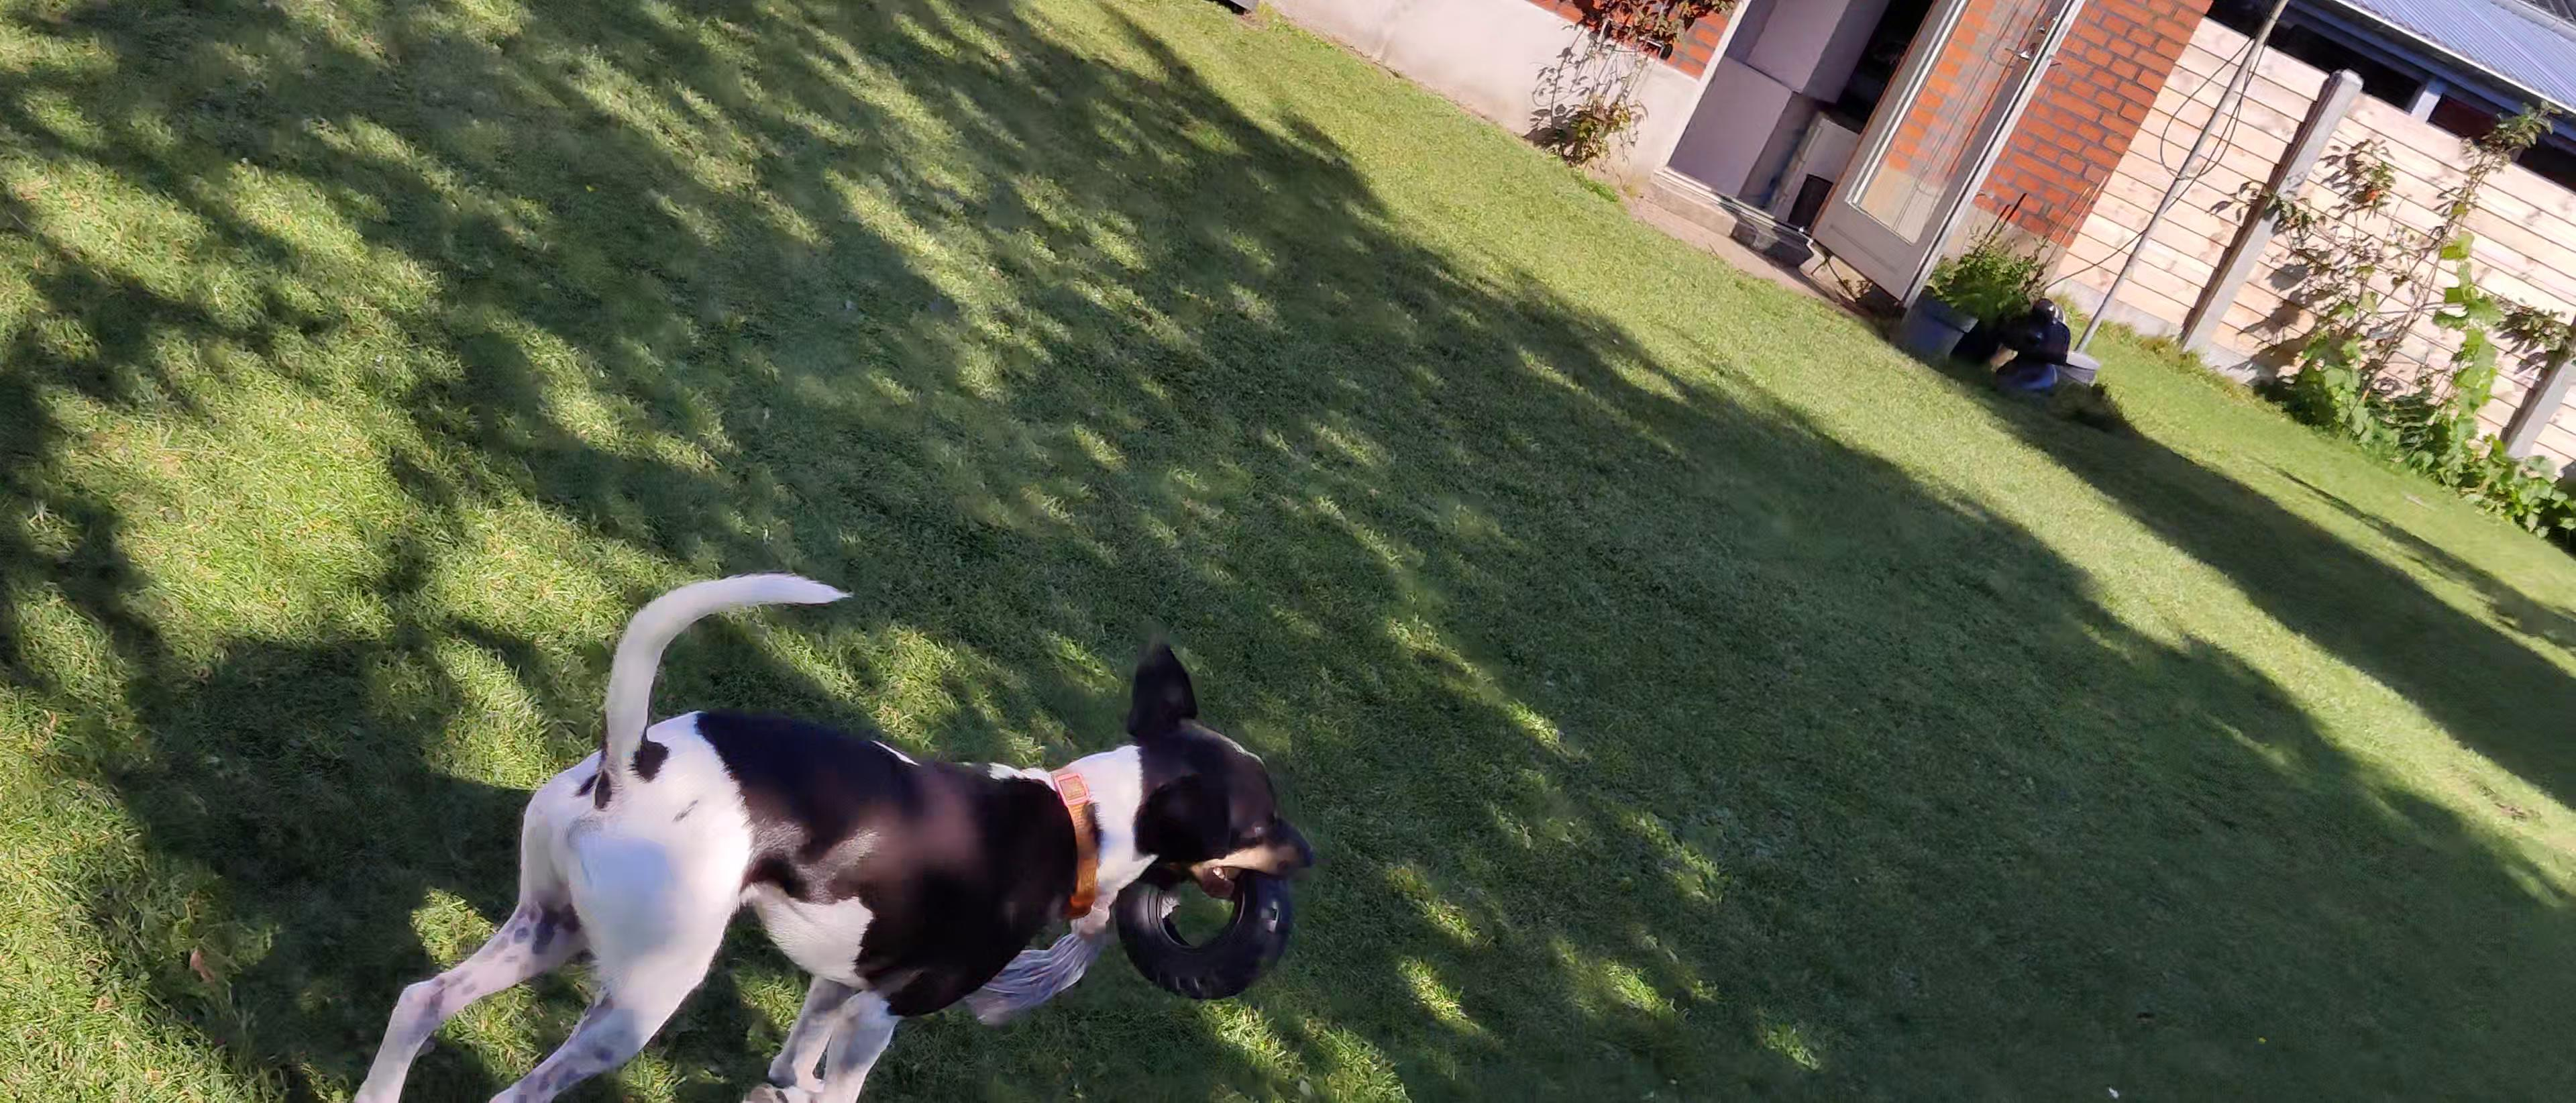Dog: (335, 565, 1331, 1103)
